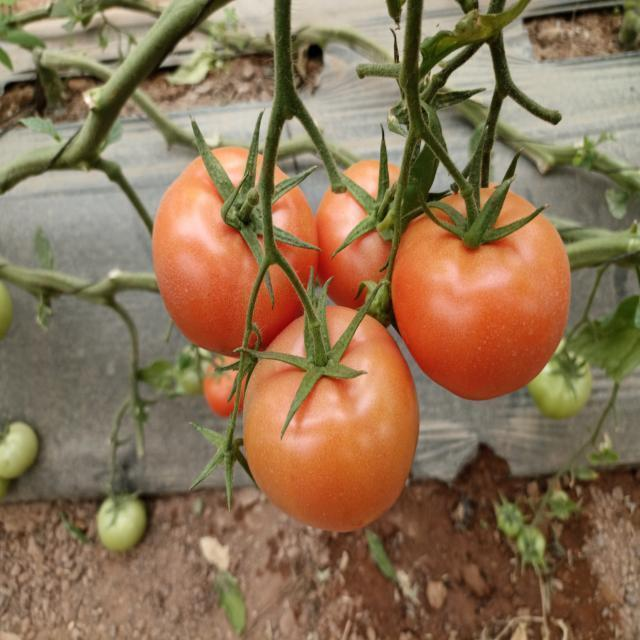Ripe Tomato: (240, 297, 426, 540), (390, 165, 571, 400), (152, 145, 319, 347), (318, 154, 415, 333), (196, 350, 257, 414)
Unripe Tomato: (531, 335, 596, 430), (82, 474, 154, 557), (0, 406, 39, 488), (505, 520, 555, 573), (170, 342, 218, 394), (488, 497, 538, 534), (546, 484, 574, 527), (0, 275, 12, 344)
